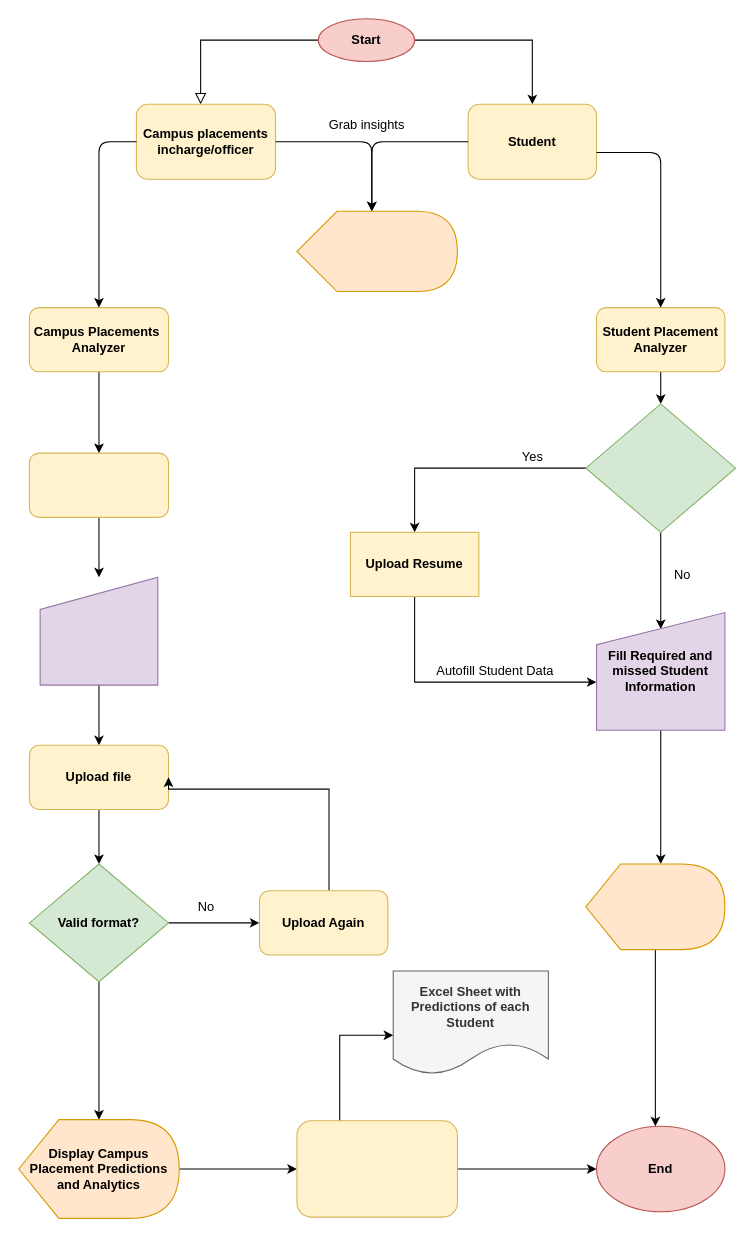
This 754x1238 diagram has some shape labels left out. Here are the shapes that lost their labels. From the top down, the box of each, then its label:
(296, 210, 457, 292): Analyze Campus Placement Insights
(28, 452, 169, 517): Download sample format
(585, 403, 736, 532): Student has resume?
(39, 576, 158, 685): Update excel file with campus students data
(585, 863, 725, 950): Get Student Placement Predictions and Suggestions
(296, 1120, 457, 1217): Download Generated Sheet
